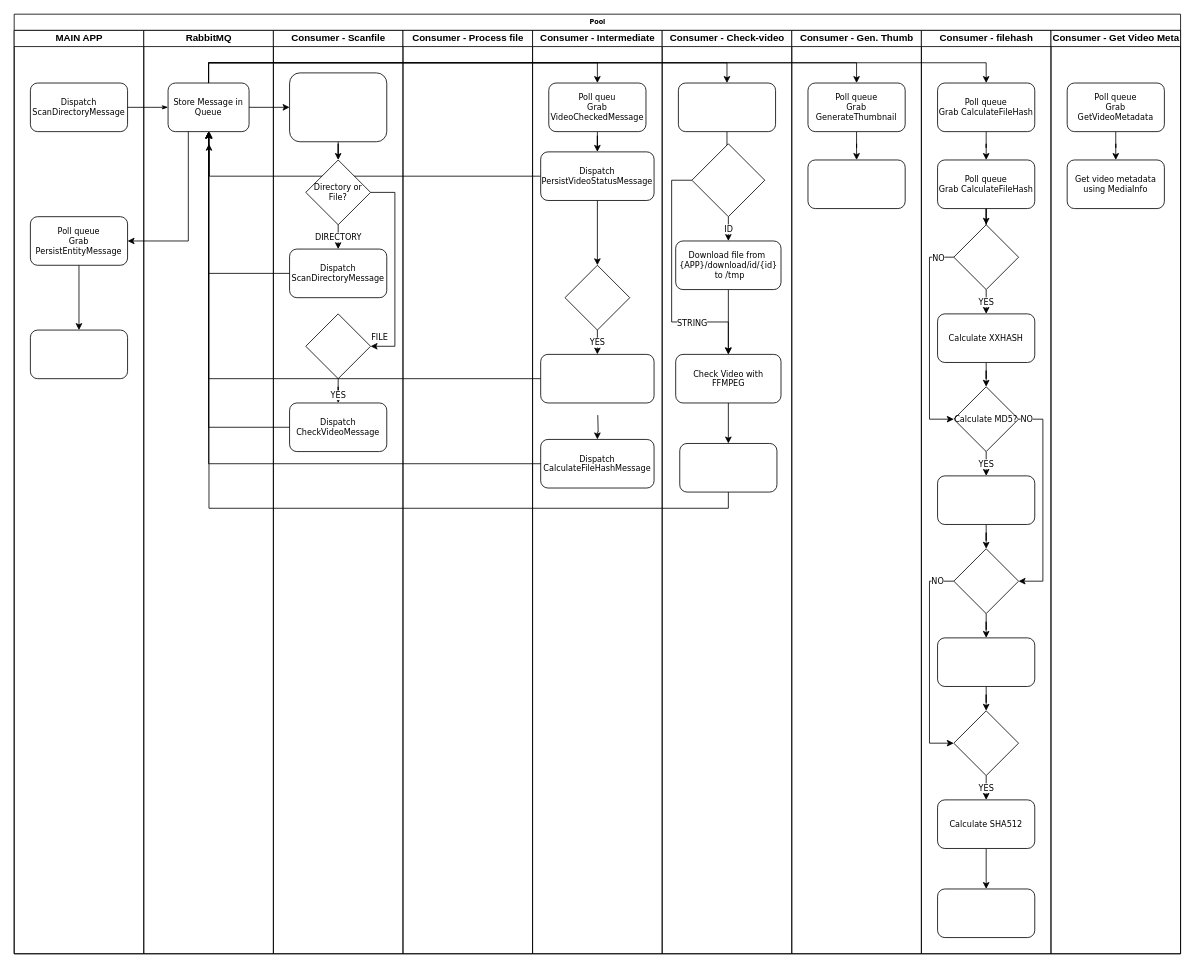
Image size: 1195x968. Some labels were removed from this diagram. The centre of each missing label's shape, as x and y in pixels:
Calculate MD5: pixel 986 499
Calculate SHA1: pixel 986 661
Calculate SHA1?: pixel 986 581
Calculate SHA512?: pixel 986 743
Calculate XXHASH?: pixel 986 257
Dispatch GenerateThumbnailMessage: pixel 597 378
Dispatch VideoCheckedMessage: pixel 728 467
Generate Thumbs with MT: pixel 856 184
isConsistent?: pixel 597 297
Mimetype is video?: pixel 338 346
Path string or id?: pixel 728 180
Persist entity to db: pixel 79 354
Persist results: pixel 986 913
Poll queue Grab CheckVideoMessage: pixel 727 107
Poll queue Grab ScanDirectoryMessage ScanFileMessage Scan paths: pixel 338 107
